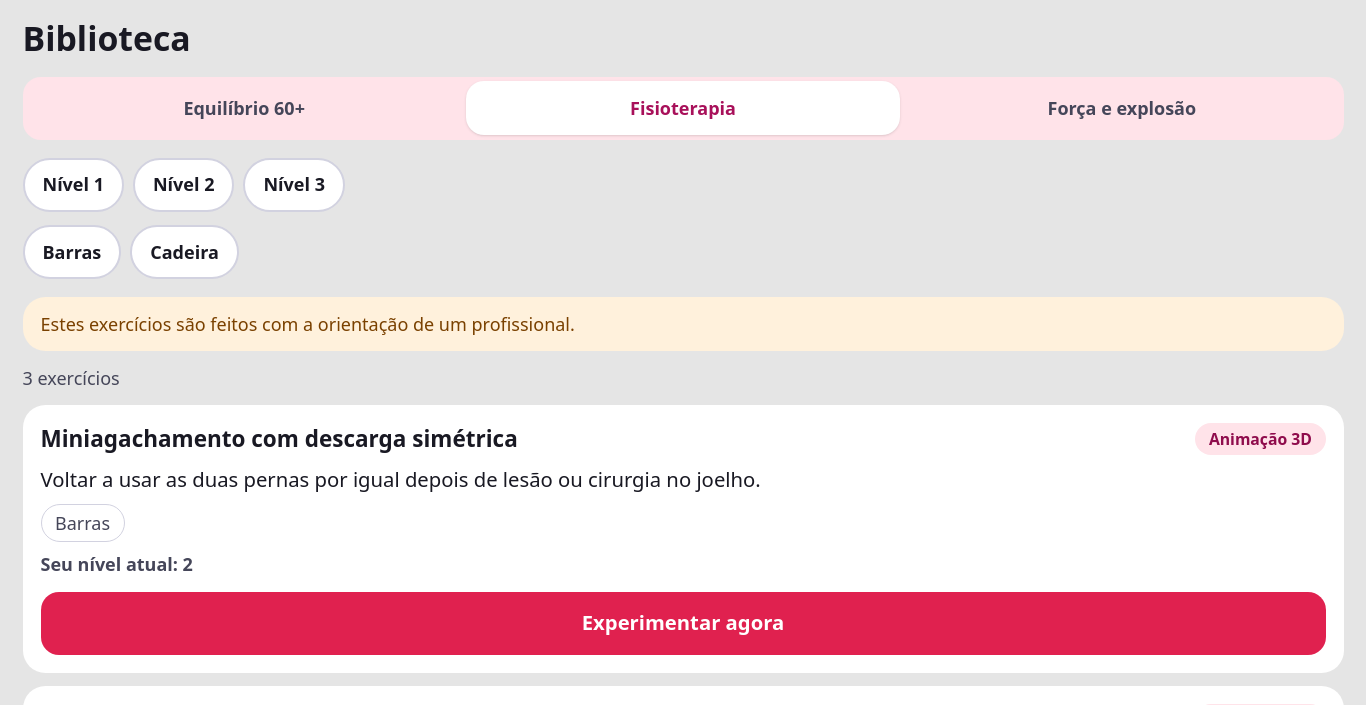
it: diz "Não está na sua rotina" para o que a rotina não inclui
The width and height of the screenshot is (1366, 705).
Click the tab "Equilíbrio 60+". click: (244, 108)
box: [27,81,461,135]
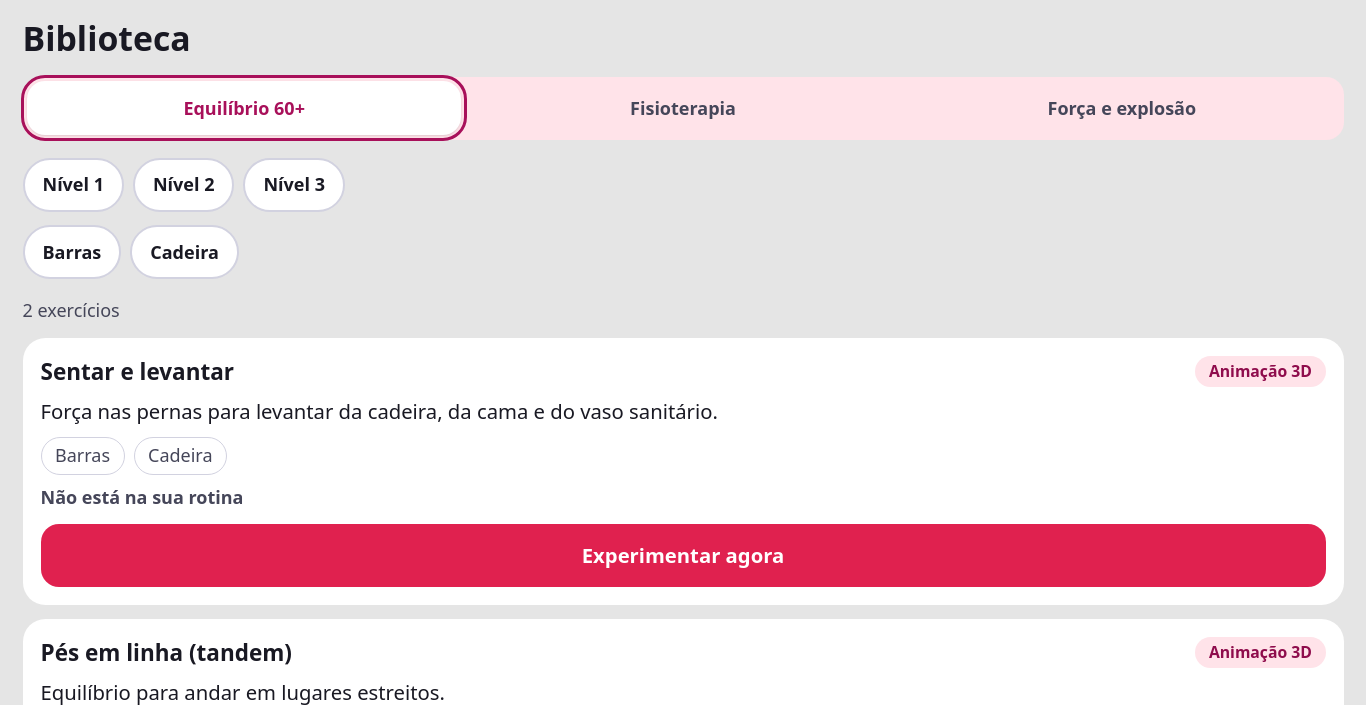
expect the text "Não está na sua rotina" below "Sentar e levantar" is shown: met, box [40,484,243,508]
